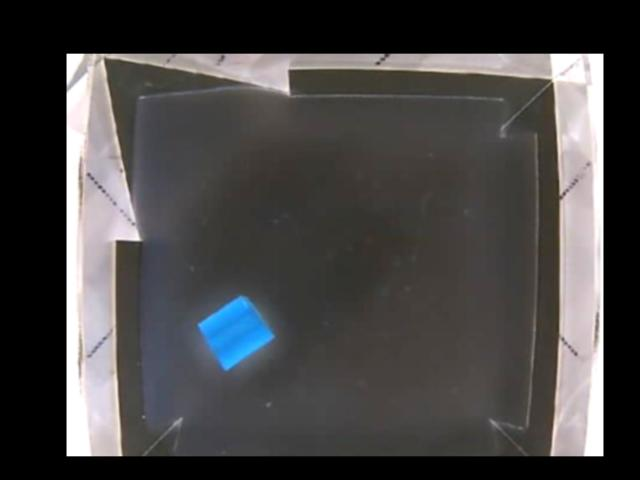Carrot: (198, 295, 274, 367)
